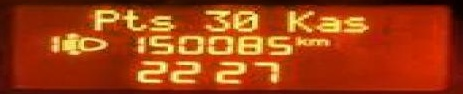0: (230, 8, 260, 31), (176, 34, 203, 55), (206, 34, 233, 54)
1: (46, 32, 59, 53), (130, 34, 143, 54)
2: (135, 58, 165, 82), (168, 58, 198, 82), (214, 58, 244, 82)
3: (200, 7, 227, 31)
5: (146, 32, 173, 53), (265, 35, 290, 54)
7: (249, 58, 281, 83)
8: (235, 34, 260, 55)
X: (284, 8, 311, 32), (89, 7, 116, 30), (116, 7, 143, 30), (143, 12, 173, 31), (339, 13, 366, 32), (314, 13, 338, 31), (306, 36, 330, 45), (292, 35, 306, 45)
